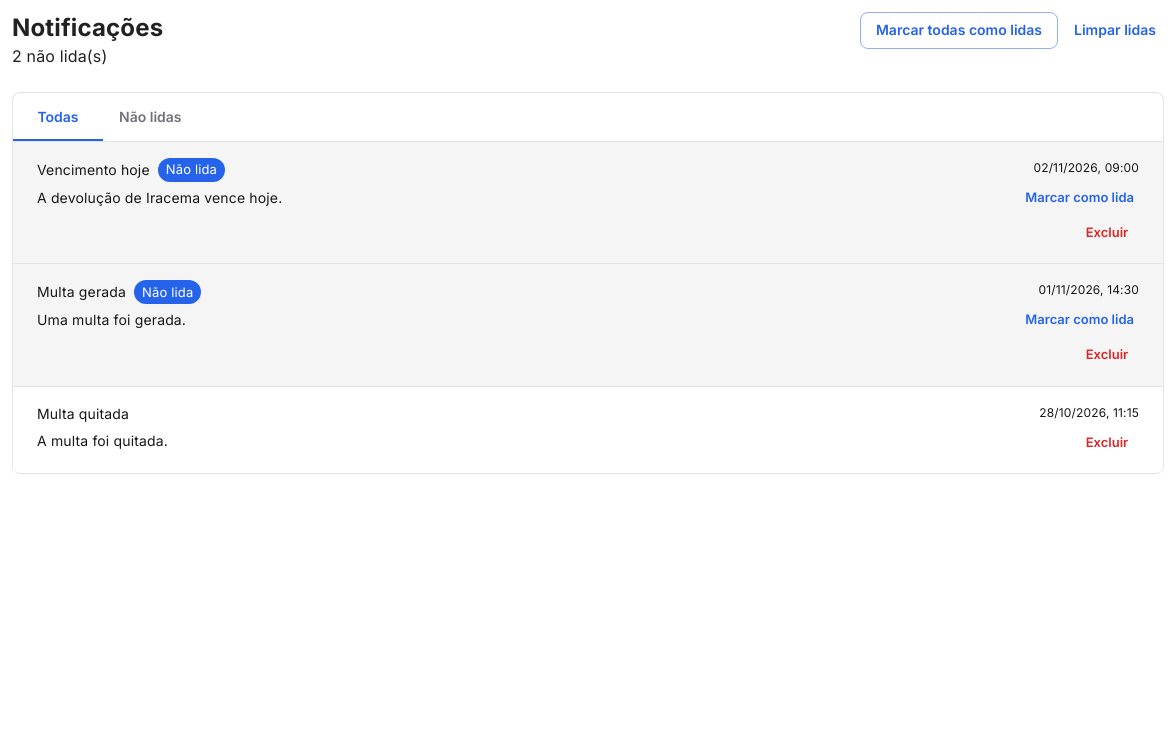
Test case: mostra erro se não conseguir marcar uma notificação como lida
Click the button "Marcar como lida" below "02/11/2026, 09:00". click: coordinates (1080, 197)
box: [1020,182,1139,213]
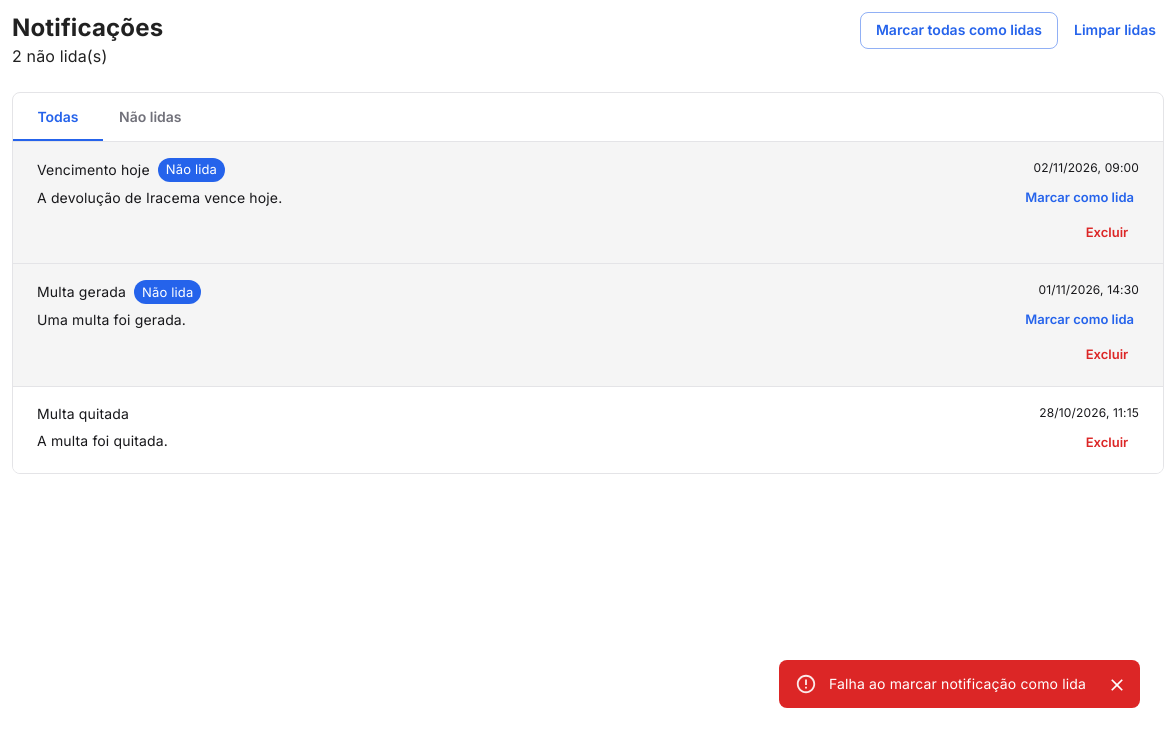
Expected: the text "Falha ao marcar notificação como lida" is shown, [829,675,1086,692]
